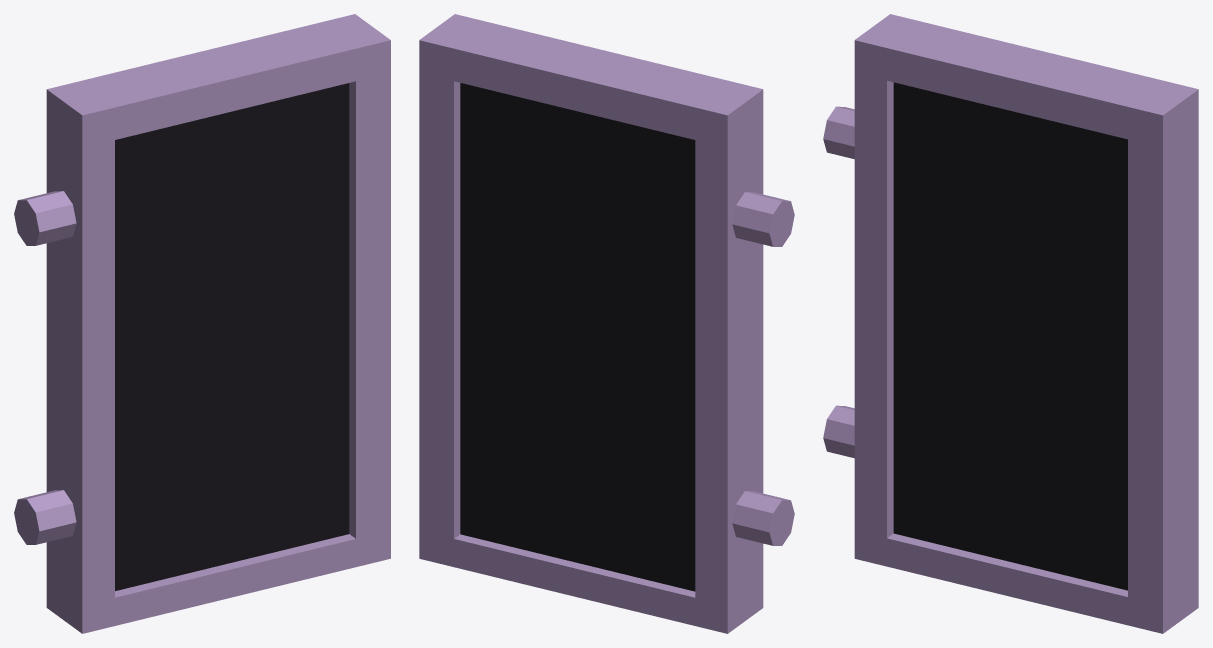
Rendered from Sign_ver1.fbx.
The picture shows the model from 3 angles, left to right: view 1: azimuth 30°, elevation 25°; view 2: azimuth 150°, elevation 25°; view 3: azimuth 330°, elevation 25°; orthographic projection.
Visible parts, largest first — view 1: Neonsign, sign_post1, sign_post; view 2: Neonsign, sign_post1, sign_post; view 3: Neonsign, sign_post, sign_post1.
Boxes of the visible parts, x1,y1,x2,y2 form: Neonsign: [46, 14, 390, 633]; sign_post1: [14, 490, 76, 544]; sign_post: [14, 191, 76, 245]; Neonsign: [419, 14, 763, 633]; sign_post1: [732, 491, 794, 545]; sign_post: [732, 192, 794, 246]; Neonsign: [854, 14, 1198, 633]; sign_post: [823, 106, 854, 159]; sign_post1: [823, 405, 854, 458].
Bounding box in the file's own units: 1.12 × 1.61 × 0.2008.
